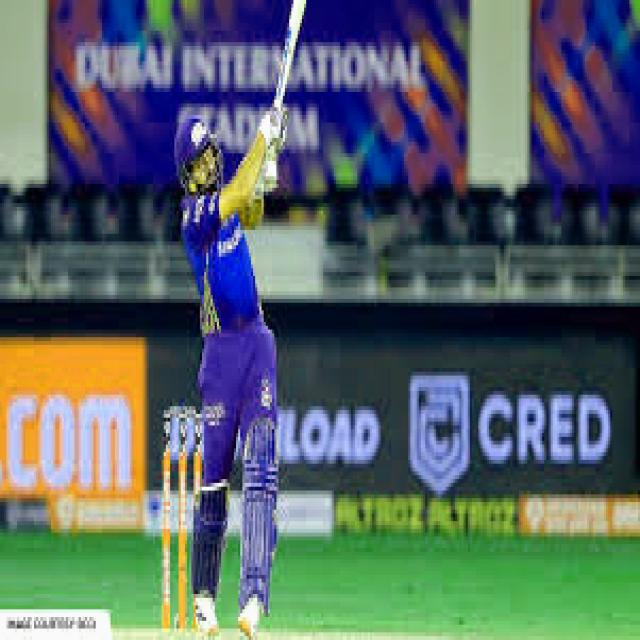toe: (287, 0, 319, 14)
